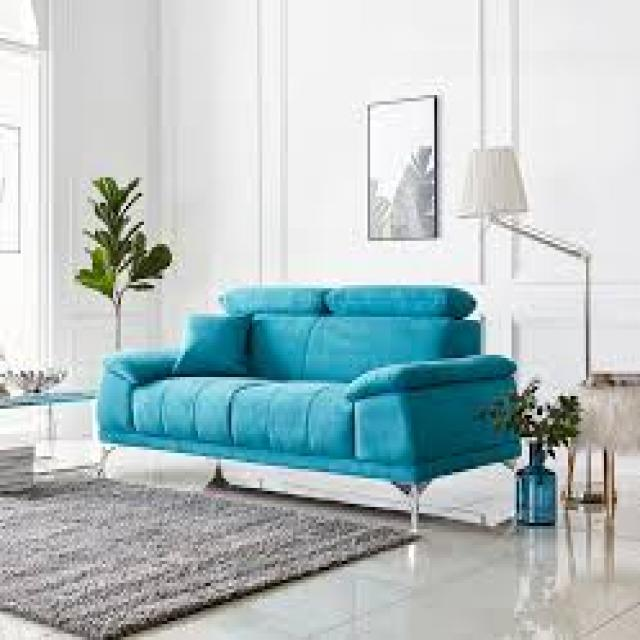Sofa: (76, 213, 560, 569)
